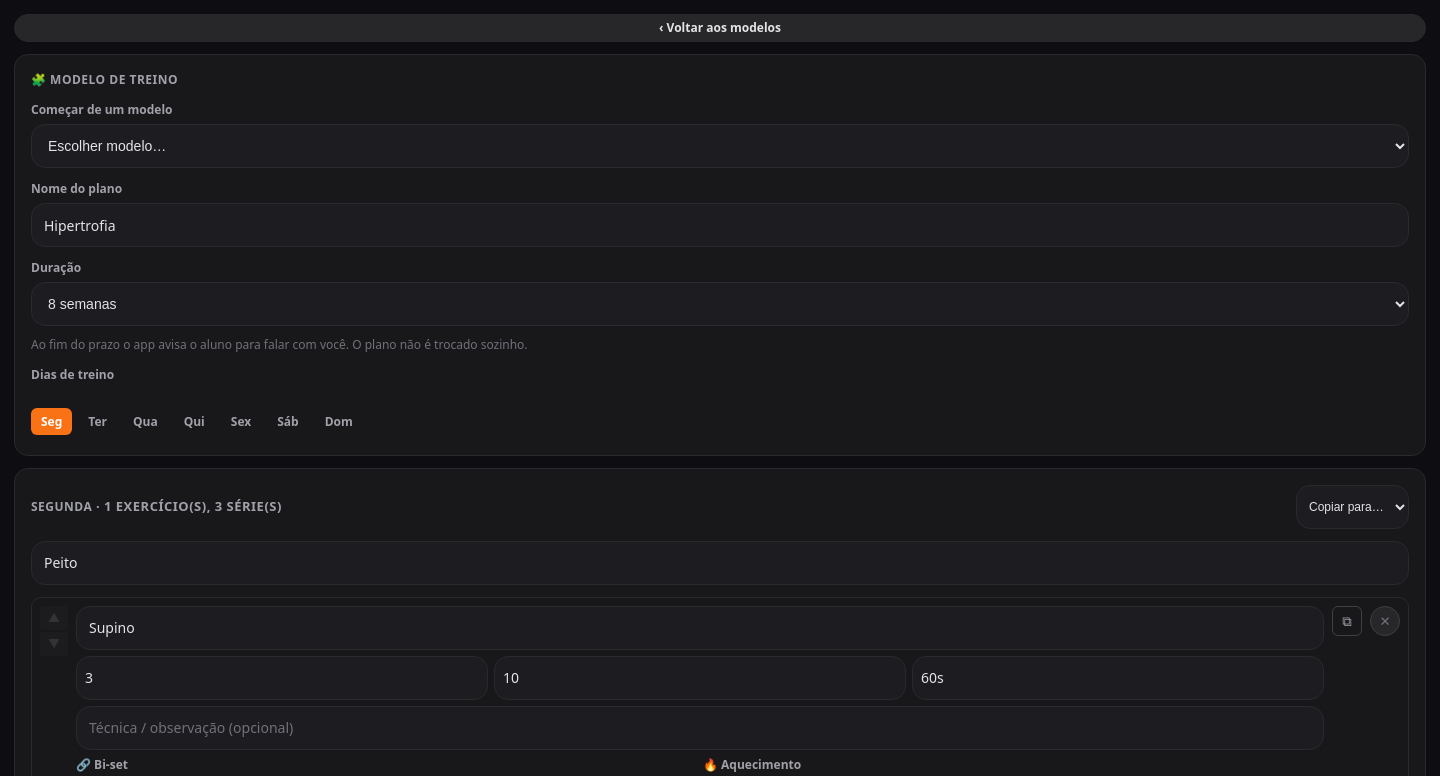
Test: PlanBuilder — modelo (sem aluno) › carregar um modelo pede confirmação quando já há dias montados
Select "Modelo A" in the dropdown labelled "Começar de um modelo" at (720, 146), box top-left (31, 124), bottom-right (1409, 168)
Check: the 2nd field showing "Supino" is shown, box top-left (76, 606), bottom-right (1324, 650)
Select "Modelo A" in the dropdown labelled "Começar de um modelo" at (720, 146), box top-left (31, 124), bottom-right (1409, 168)
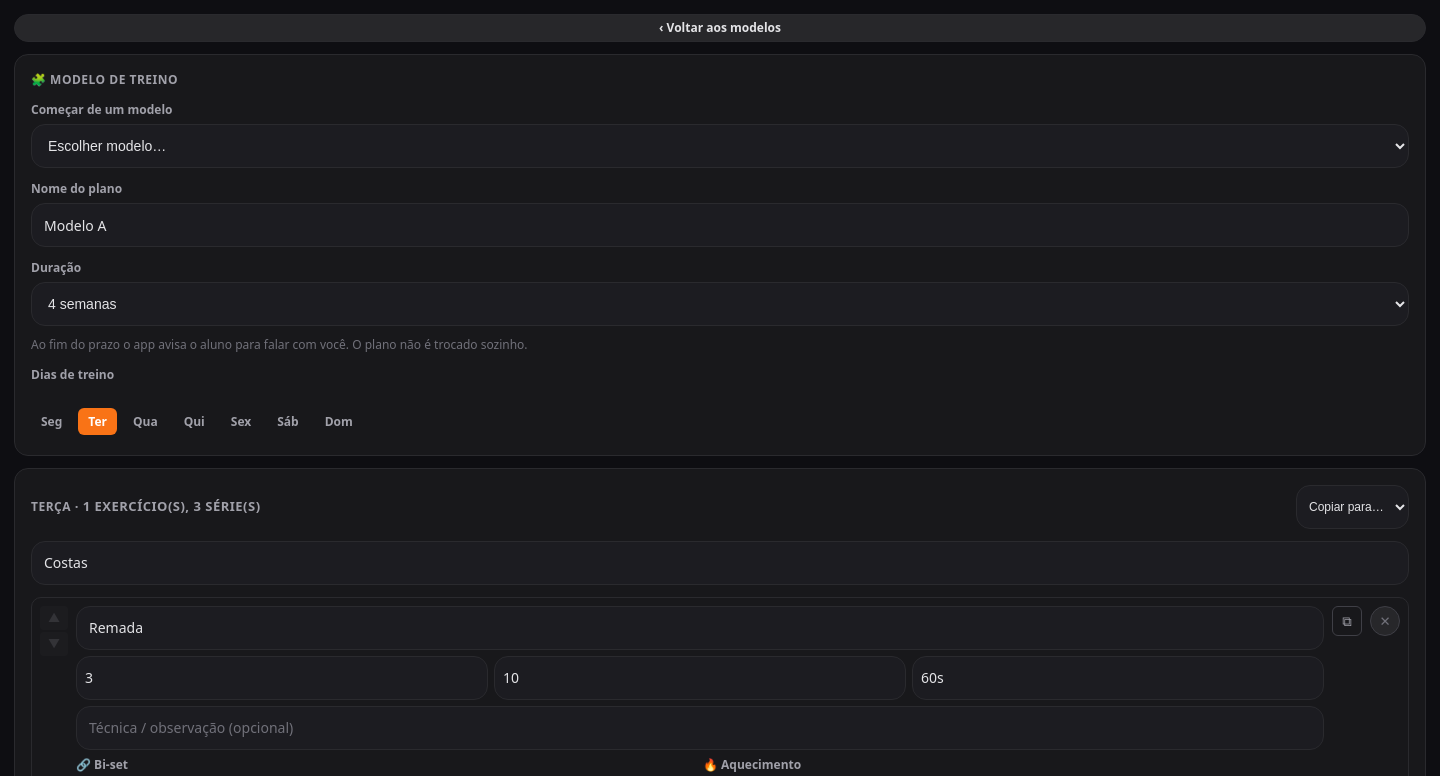
Check: the 2nd field showing "Remada" is shown, box top-left (76, 606), bottom-right (1324, 650)
Check: the dropdown labelled "Duração" shows "4 semanas", box top-left (31, 282), bottom-right (1409, 326)
